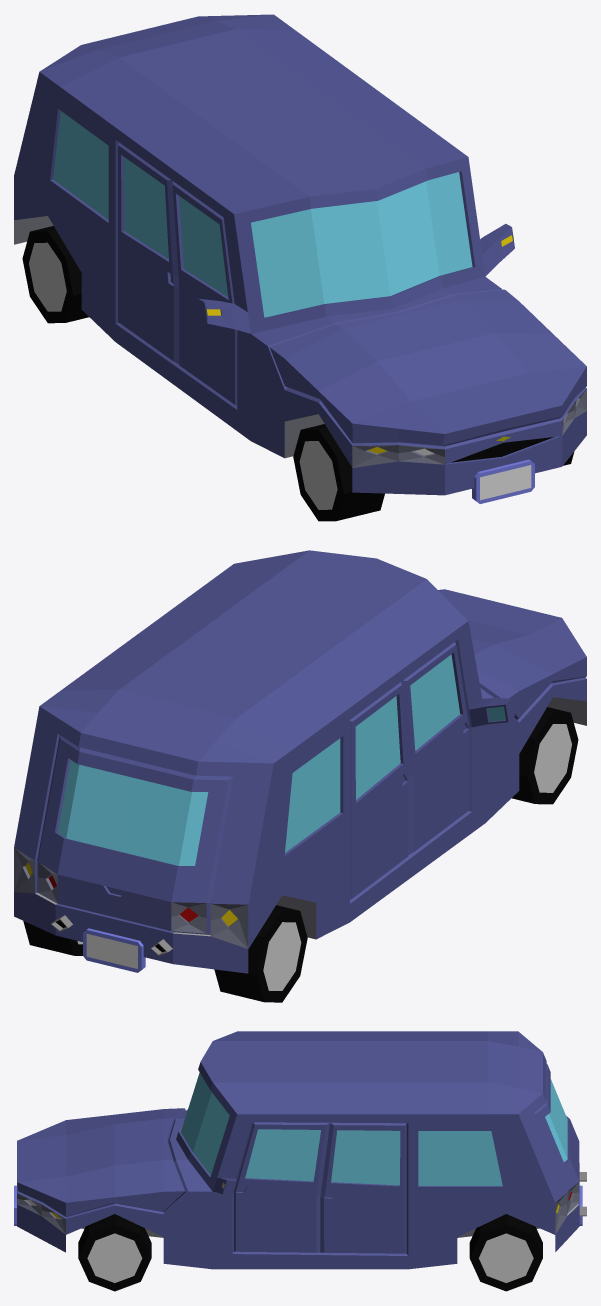
The model's file is Low poly car.fbx.
The picture shows the model from 3 angles, top to bottom: view 1: azimuth 30°, elevation 25°; view 2: azimuth 150°, elevation 25°; view 3: azimuth 270°, elevation 25°; orthographic projection. The views are drawn at different scales.
Visible parts, largest first — view 1: pCube3, pCylinder1, pCylinder2, pCube4; view 2: pCube3, pCylinder2, pCylinder1, pCube5; view 3: pCube3, pCylinder2, pCylinder1.
Part boxes in pixels (bbox=[...]): pCube3: bbox=[14, 14, 586, 495]; pCylinder1: bbox=[293, 424, 574, 521]; pCylinder2: bbox=[22, 226, 88, 323]; pCube4: bbox=[472, 459, 534, 503]; pCube3: bbox=[14, 550, 586, 973]; pCylinder2: bbox=[23, 905, 307, 1002]; pCylinder1: bbox=[512, 707, 578, 804]; pCube5: bbox=[83, 928, 145, 972]; pCube3: bbox=[17, 1031, 586, 1269]; pCylinder2: bbox=[469, 1214, 542, 1291]; pCylinder1: bbox=[78, 1214, 151, 1291].
Bounding box in the file's own units: 10.5 × 8.5 × 23.42.
